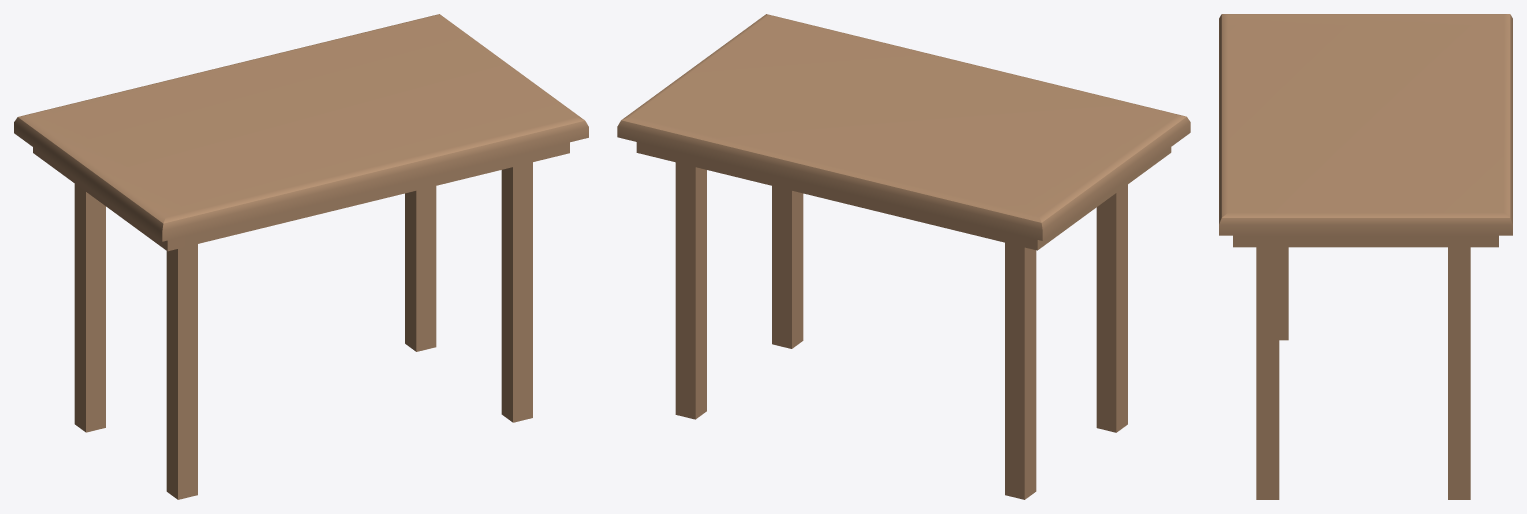
The model's file is tavolo cucina.fbx.
The picture shows the model from 3 angles, left to right: view 1: azimuth 30°, elevation 25°; view 2: azimuth 150°, elevation 25°; view 3: azimuth 270°, elevation 25°; orthographic projection.
Visible parts, largest first — view 1: Tavolo_Cucina; view 2: Tavolo_Cucina; view 3: Tavolo_Cucina.
Boxes of the visible parts, x1=… form: Tavolo_Cucina: x1=14, y1=14, x2=588, y2=499; Tavolo_Cucina: x1=617, y1=14, x2=1190, y2=499; Tavolo_Cucina: x1=1219, y1=14, x2=1512, y2=499.
Bounding box in the file's own units: 2.5 × 1.7 × 1.51.
